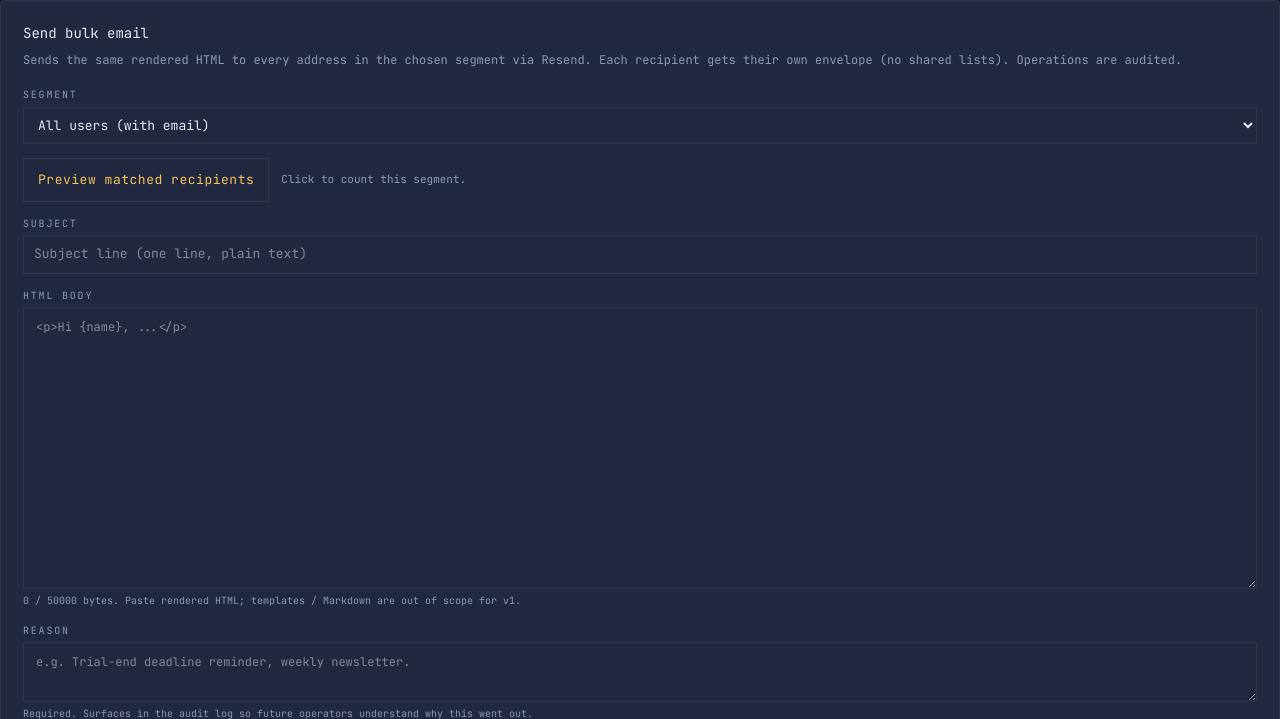
SendBulkEmailForm › changing the segment clears the previous preview count
Click the button "Preview matched recipients".
click(146, 180)  # box [23,158,269,202]
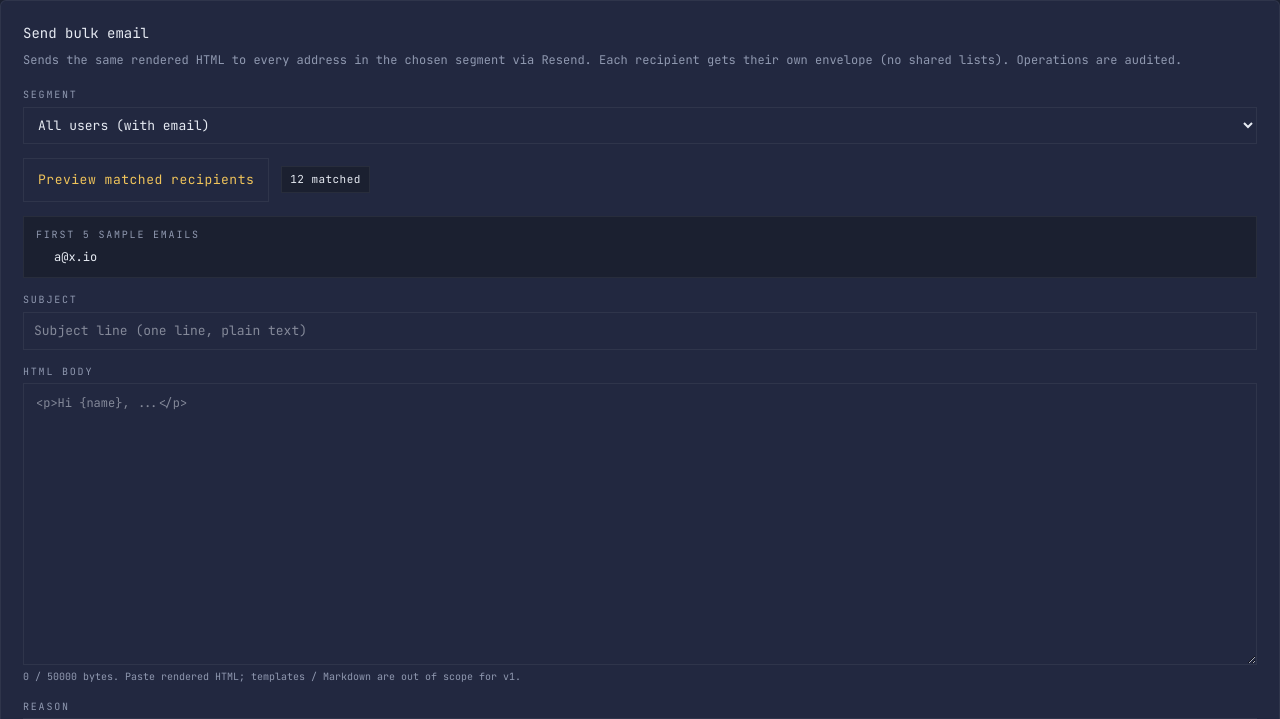
Expected: the text "12 matched" is shown, [281,166,370,193]
Select "Paid (active PayPal subs)" in the dropdown labelled "Segment" at (640,125), box [23,107,1257,144]
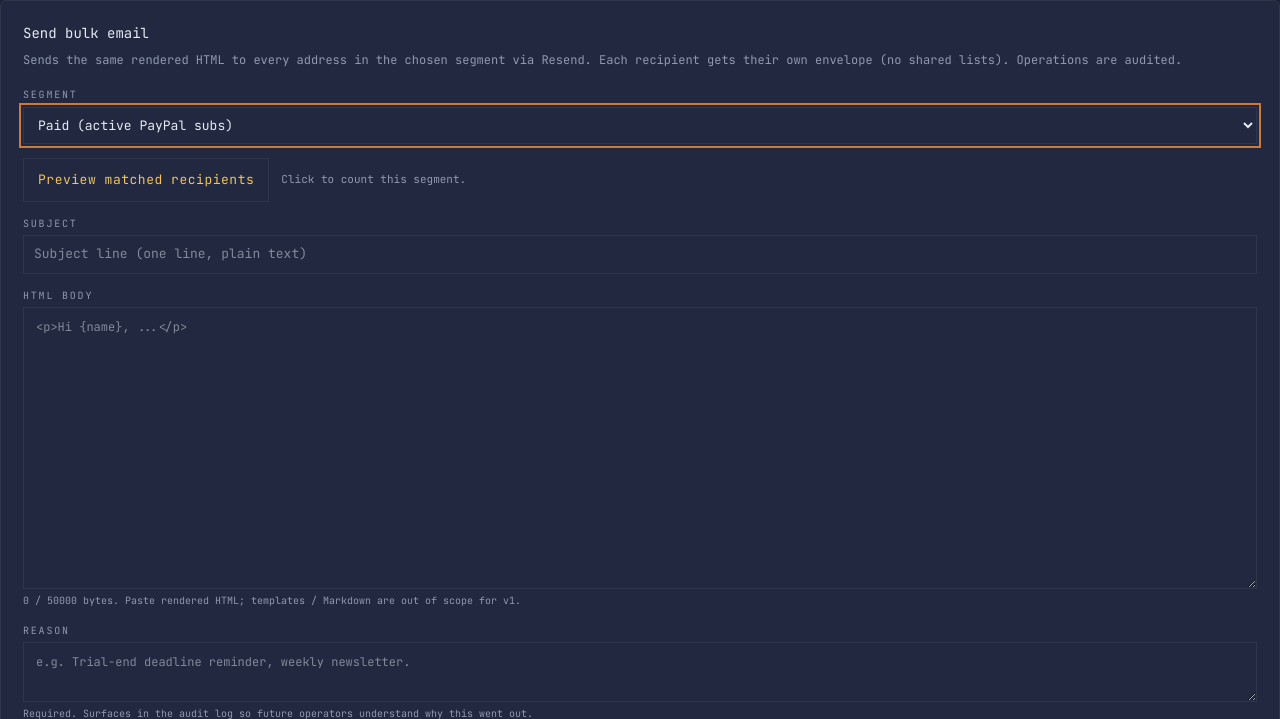
Expected: the text "12 matched" is gone
